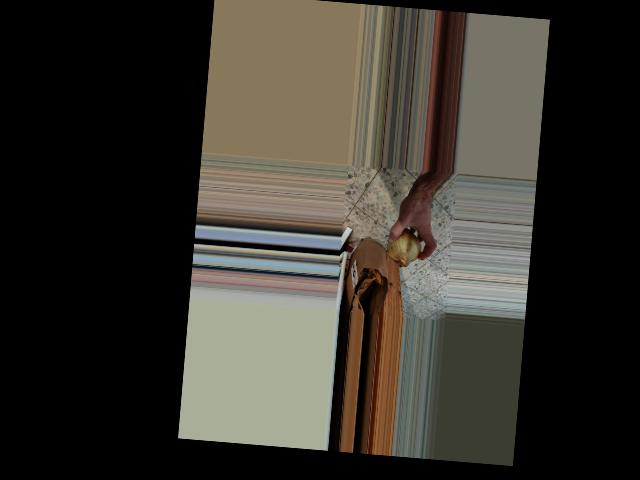onion: (385, 221, 423, 267)
